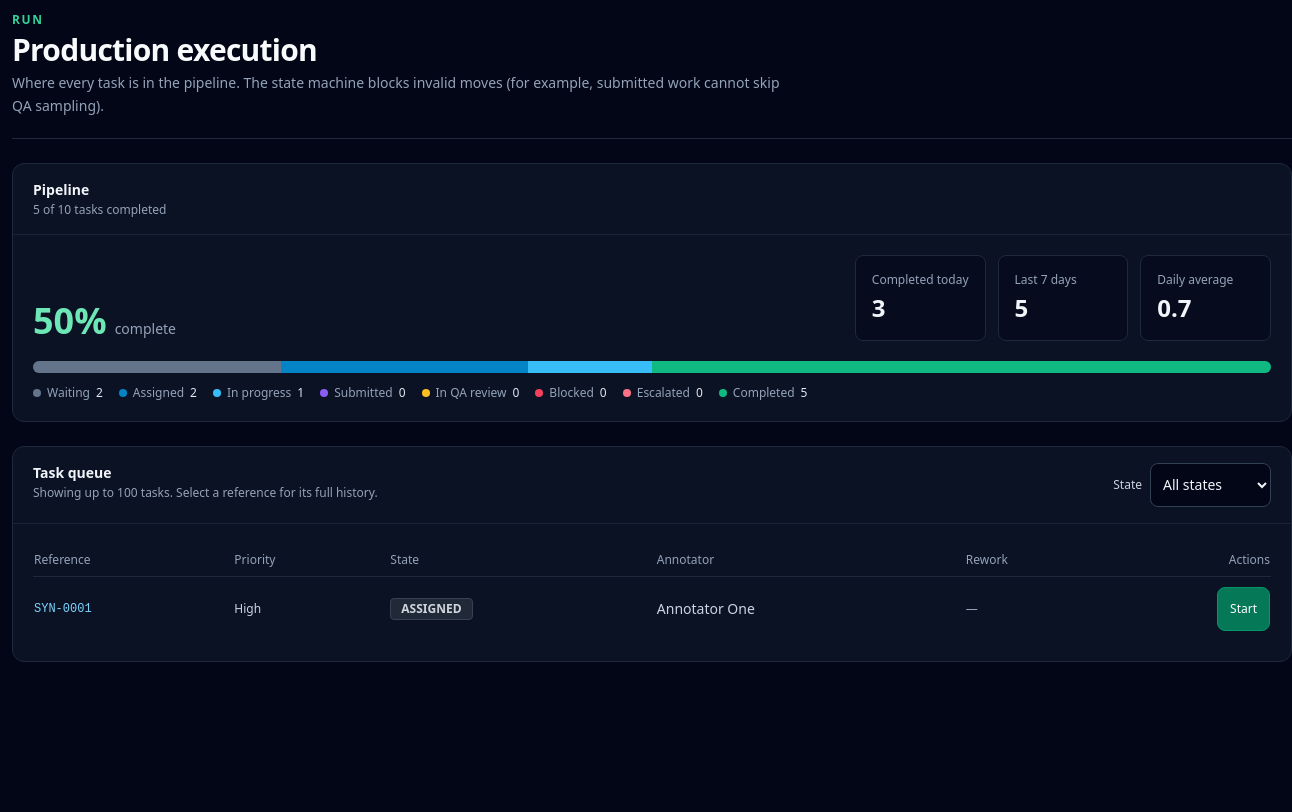
ExecutionPage Component › starts a task through the real state endpoint contract
The width and height of the screenshot is (1292, 812).
Click the button with aria-label "Start SYN-0001": (1244, 608) [1217,586,1270,630]
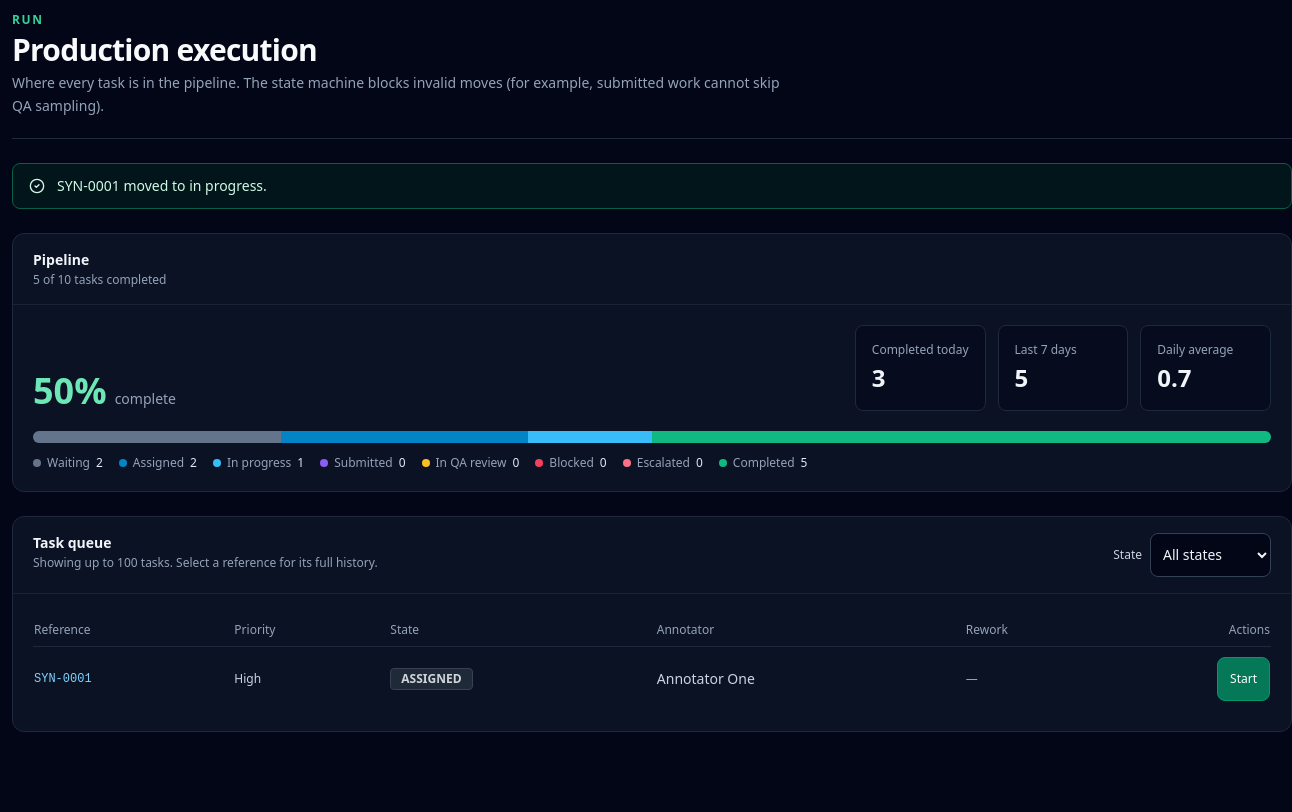
Expected: the text "SYN-0001 moved to in progress." is shown, [57,176,267,196]
